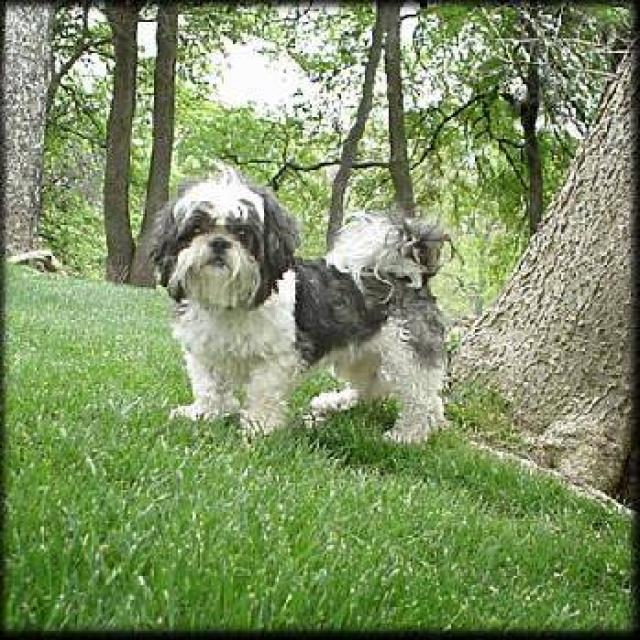dog: (145, 159, 451, 444)
